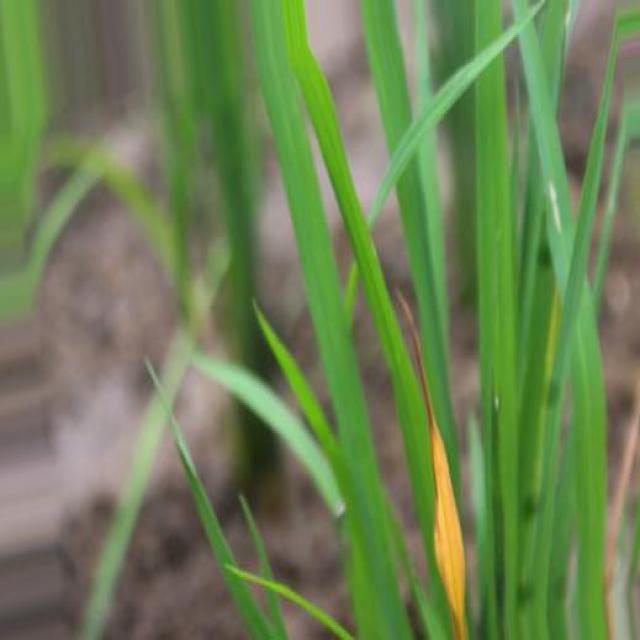Rice Tungro: (397, 291, 466, 638)
